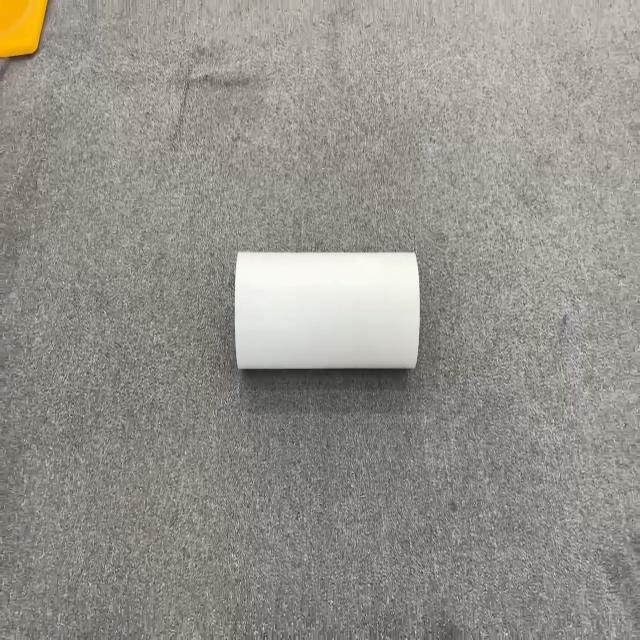coral: (233, 248, 421, 372)
